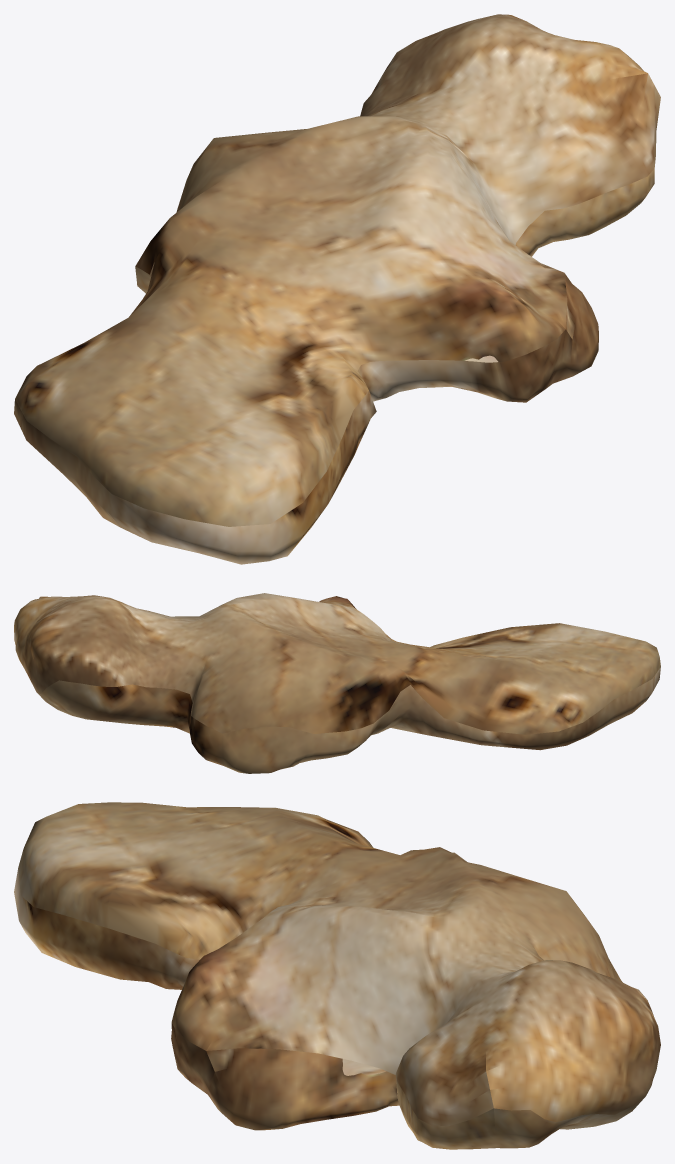
The model's file is Ginger.fbx.
3 renders of one model, top to bottom at view 1: azimuth 30°, elevation 25°; view 2: azimuth 150°, elevation 25°; view 3: azimuth 270°, elevation 25°, orthographic. The views are drawn at different scales.
Parts seen in each view (by area): view 1: pPlatonic1; view 2: pPlatonic1; view 3: pPlatonic1.
Boxes of the visible parts, box(x1,y1,x2,y2) form: pPlatonic1: box(14, 14, 660, 564); pPlatonic1: box(14, 593, 660, 773); pPlatonic1: box(14, 802, 660, 1149).
Bounding box in the file's own units: 23.64 × 6.49 × 18.6.
Materials: 1 (1 with a texture image).
